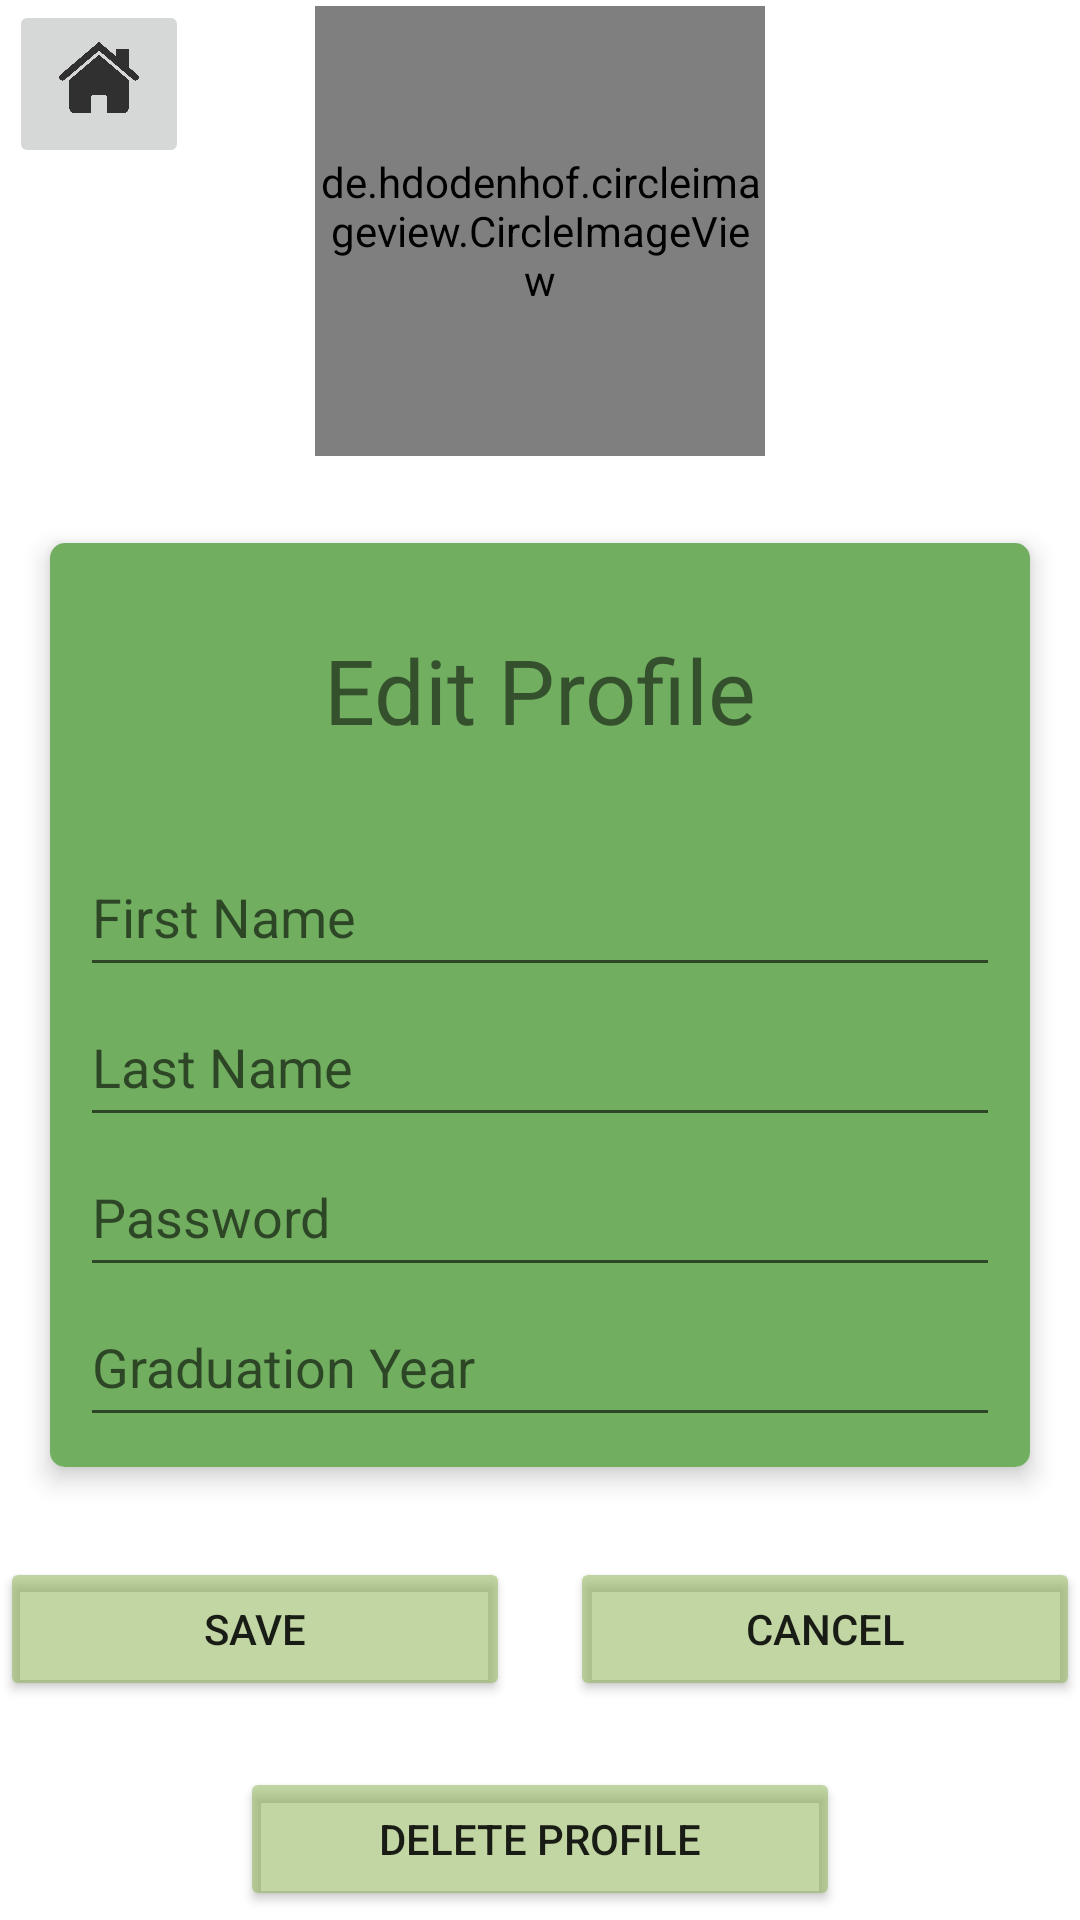

Icon bounding boxes for this 1080 × 1920 phone screenshot, format (x1, y1, x2, y2):
home: (21, 18, 177, 150)
